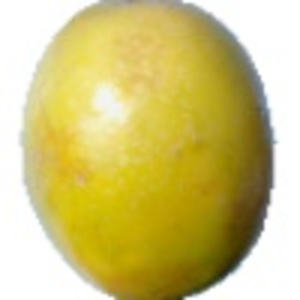maracujá: (20, 1, 280, 300)
